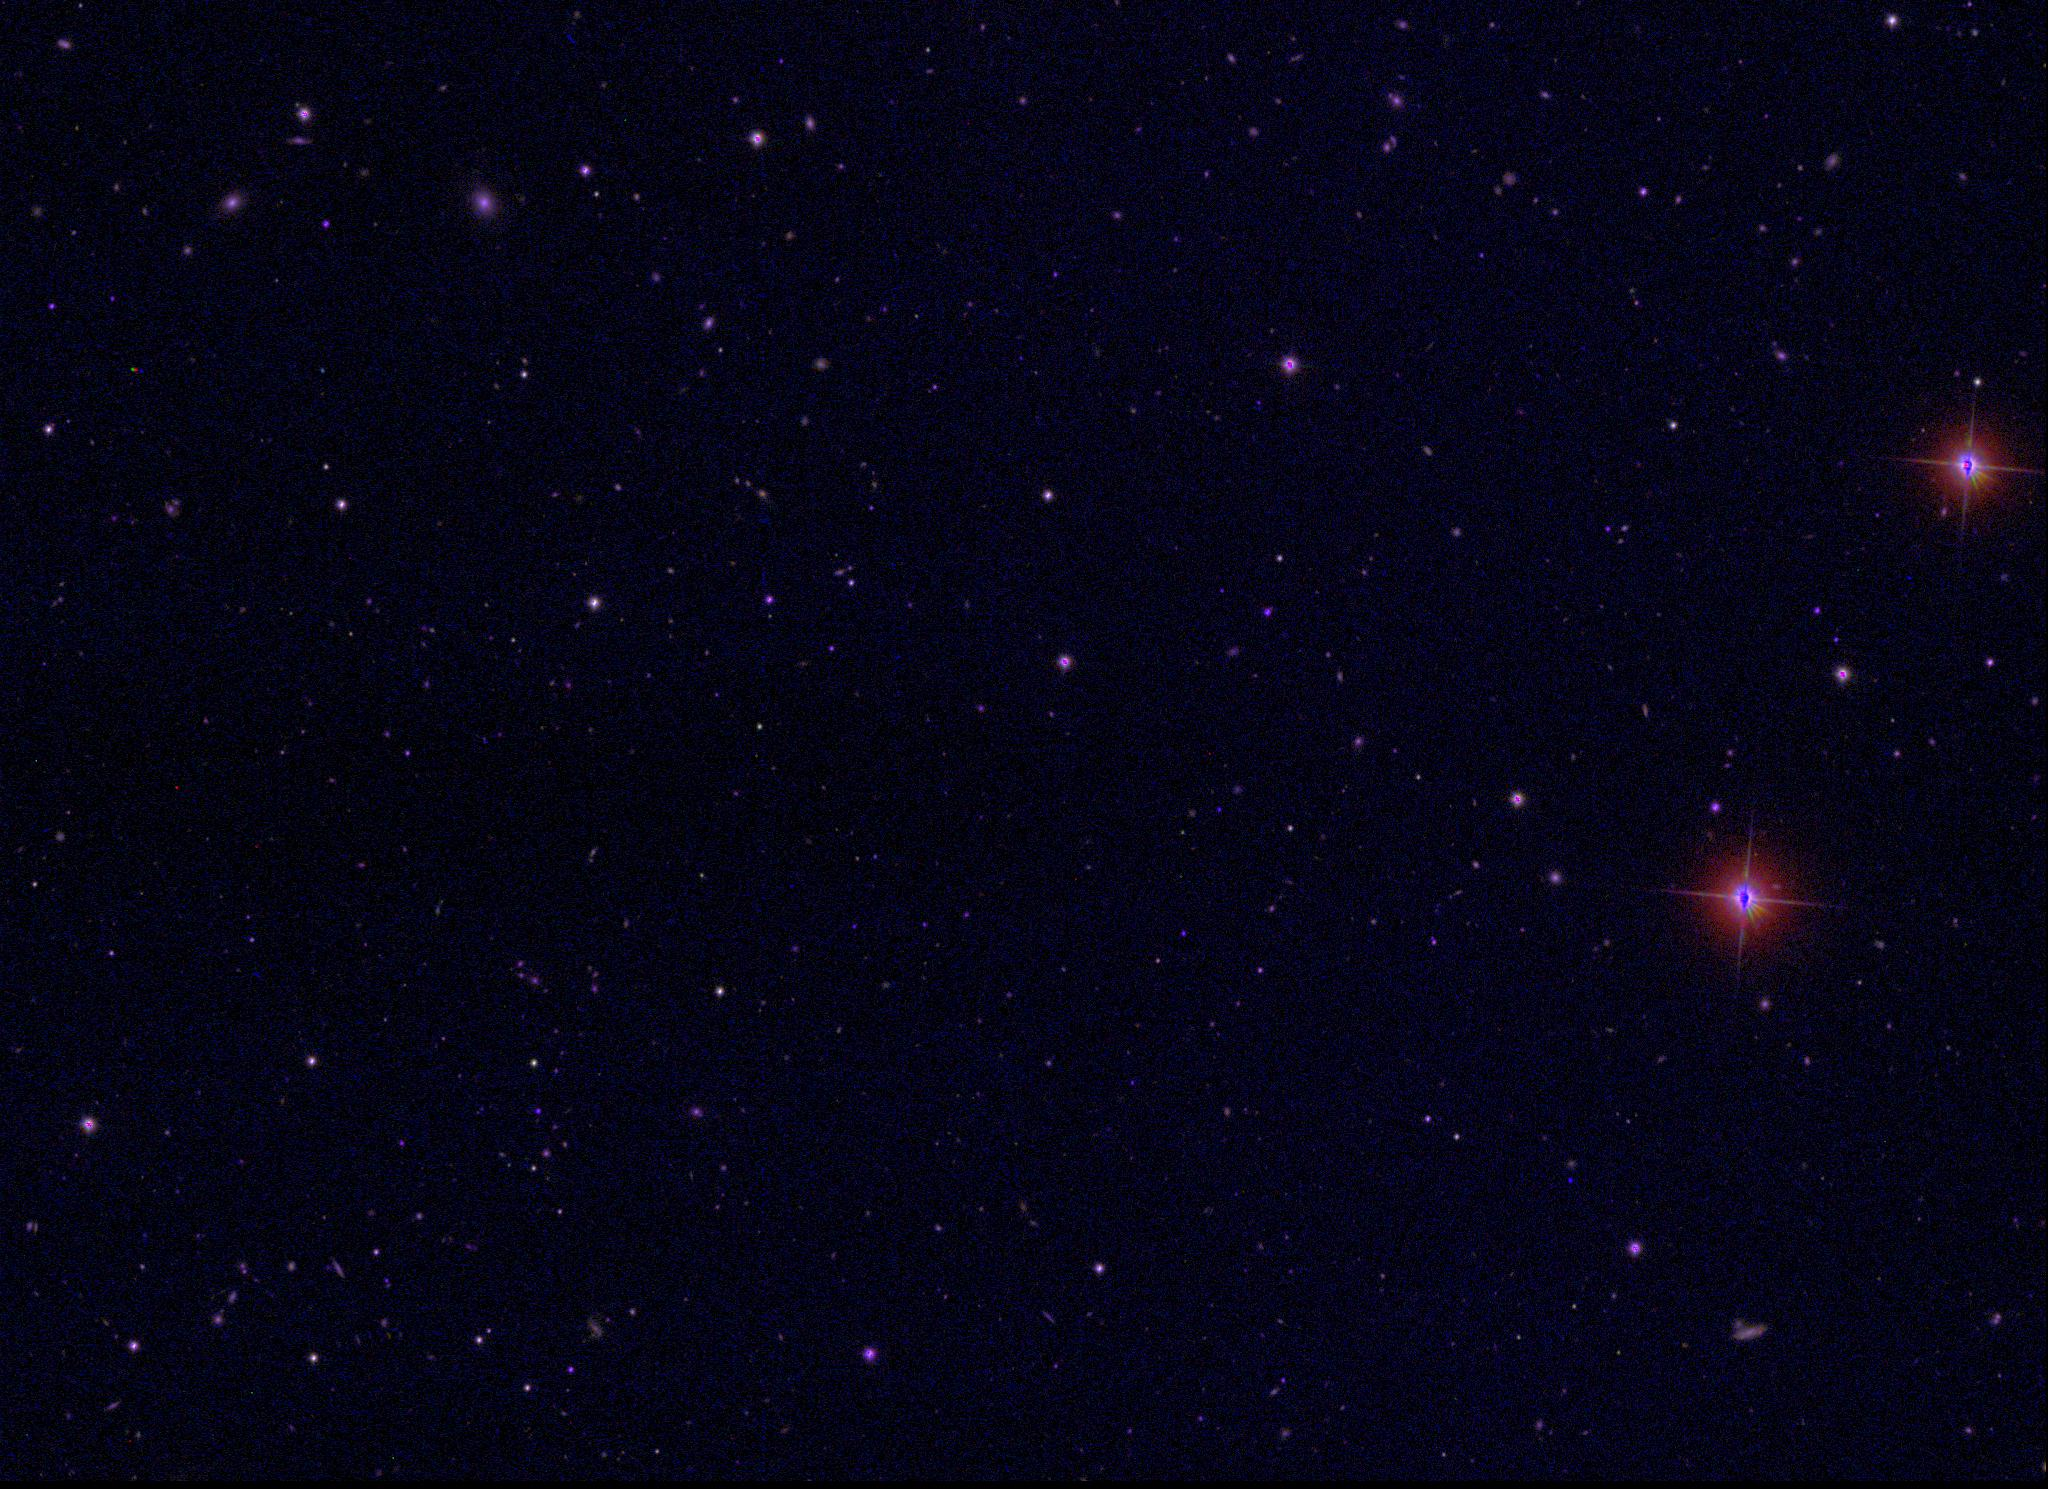L: (1563, 1172, 1577, 1187)
